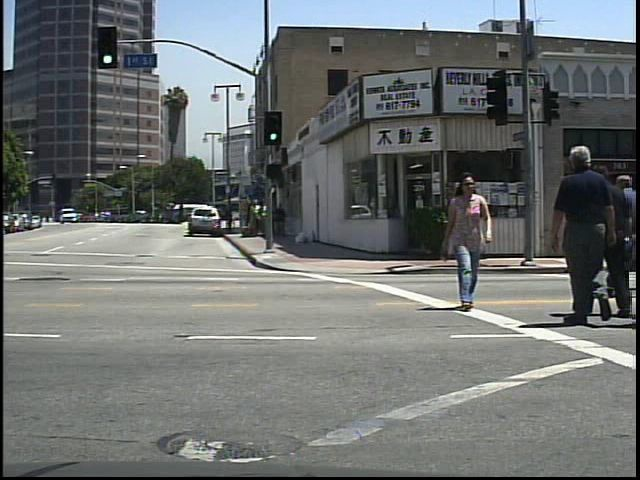person: (550, 140, 624, 331), (441, 168, 495, 313)
